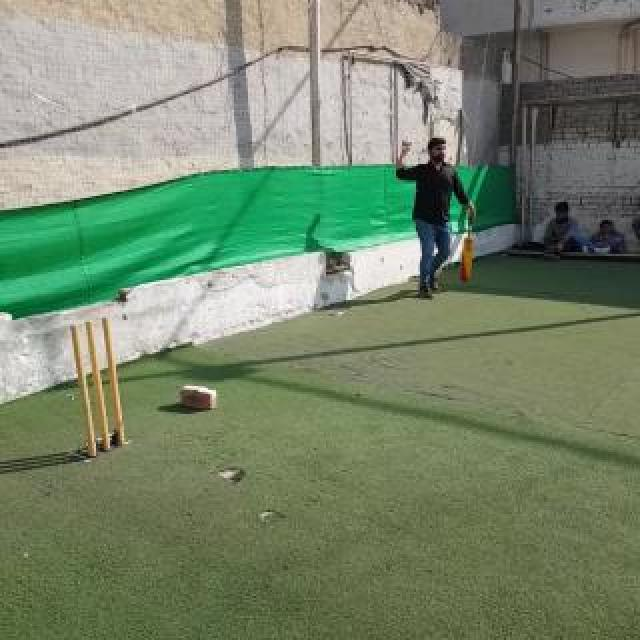ball: (405, 140, 411, 146)
bat: (459, 218, 475, 284)
